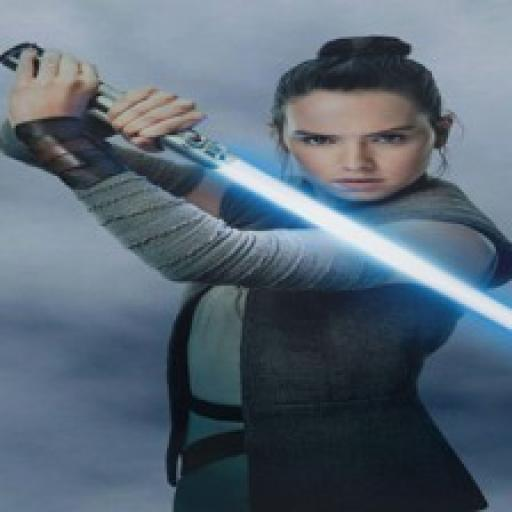human: (2, 33, 512, 512)
lightsaber: (7, 44, 512, 329)
